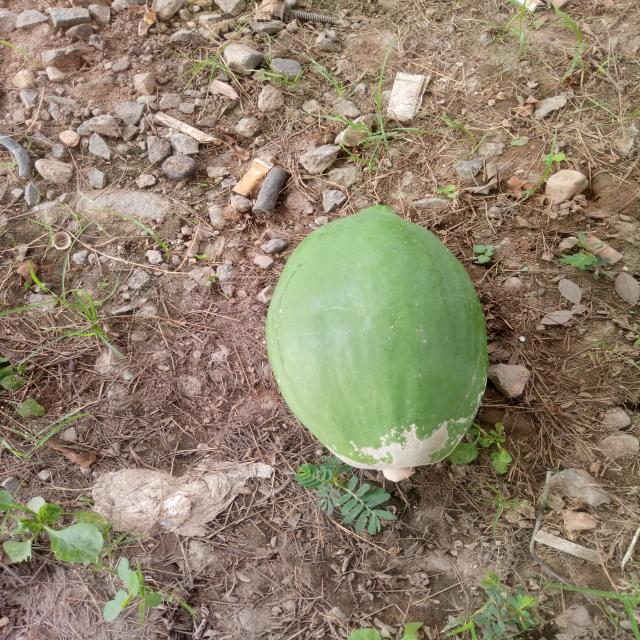Pepaya unrippen: (266, 208, 488, 480)
